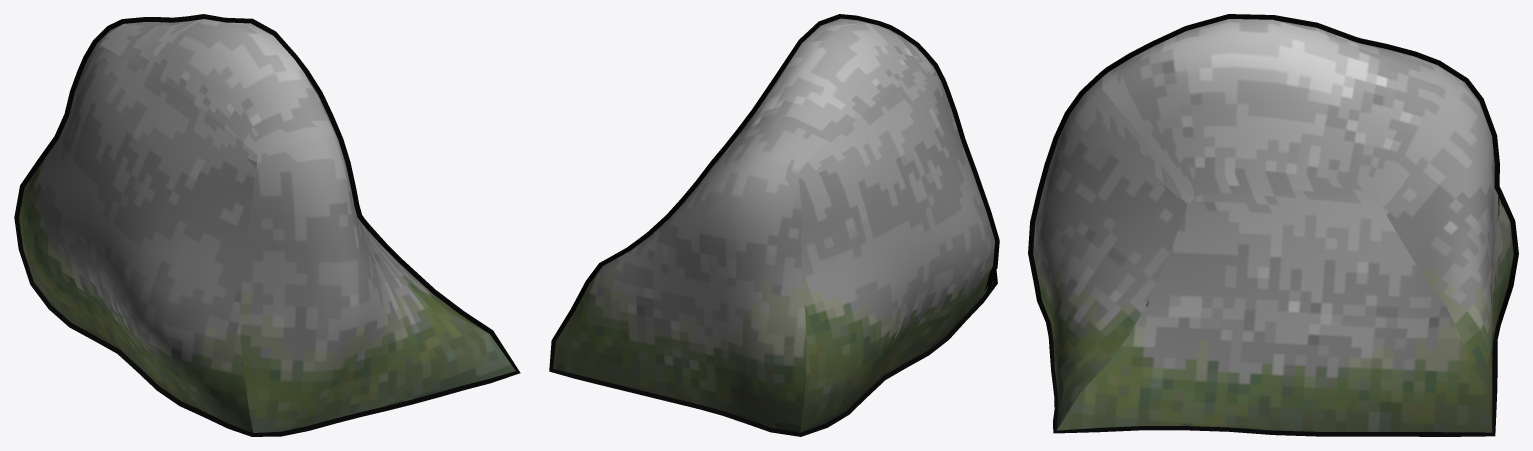
Rendered from stone1 with moss.fbx.
3 renders of one model, left to right at view 1: azimuth 30°, elevation 25°; view 2: azimuth 150°, elevation 25°; view 3: azimuth 270°, elevation 25°, orthographic. The views are drawn at different scales.
Visible parts, largest first — view 1: Stone1 W Moss, OL Stone1; view 2: Stone1 W Moss, OL Stone1; view 3: Stone1 W Moss, OL Stone1.
Part boxes in pixels (<box>): Stone1 W Moss: <box>19,19,515,432</box>; OL Stone1: <box>14,14,520,436</box>; Stone1 W Moss: <box>553,18,994,432</box>; OL Stone1: <box>549,14,999,436</box>; Stone1 W Moss: <box>1033,19,1513,432</box>; OL Stone1: <box>1028,14,1518,436</box>.
Bounding box in the file's own units: 14.76 × 14.73 × 19.1.
Materials: 2 (1 with a texture image).
